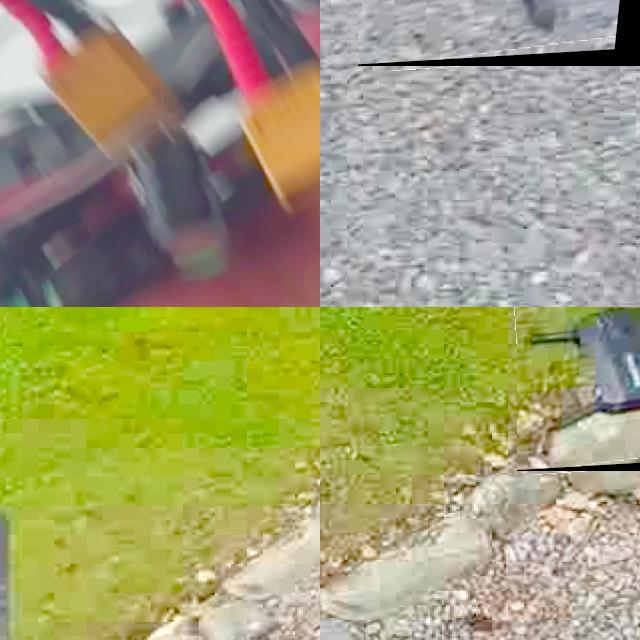drone: (0, 0, 320, 307), (517, 307, 640, 471), (358, 0, 640, 66)
